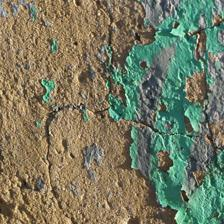Crack: (0, 48, 95, 150), (11, 31, 47, 177), (52, 28, 88, 146)
